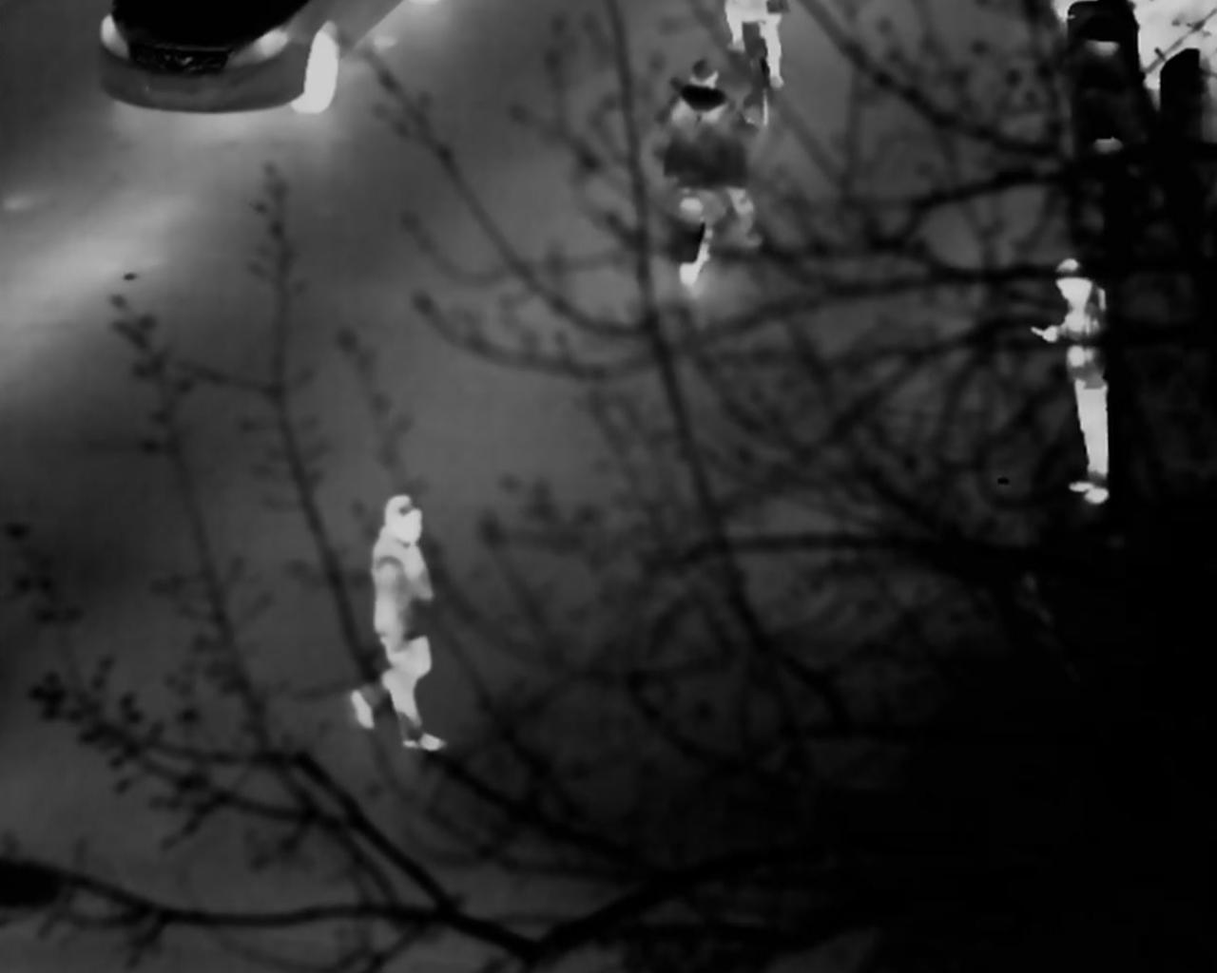person: (1025, 243, 1143, 503), (355, 486, 456, 755), (686, 63, 757, 274)
